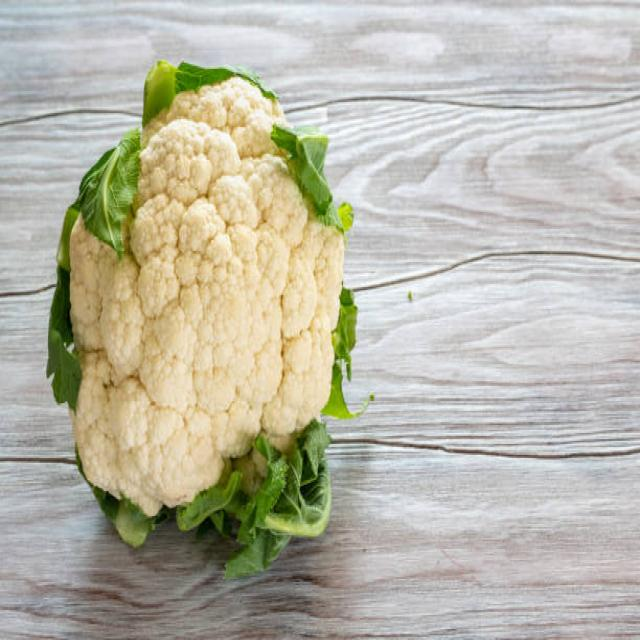Cauliflower head: (34, 54, 459, 640)
